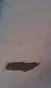Corrosion: (5, 61, 41, 73)
